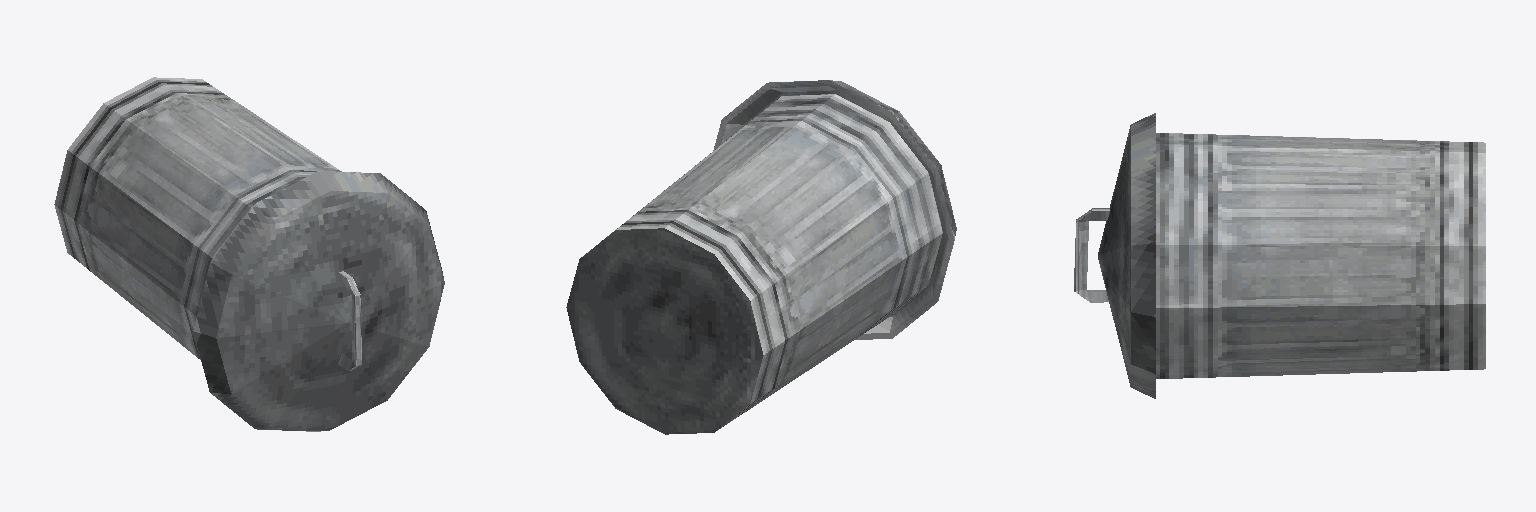
3 renders of one model, left to right at view 1: azimuth 30°, elevation 25°; view 2: azimuth 150°, elevation 25°; view 3: azimuth 270°, elevation 25°, orthographic.
Visible parts, largest first — view 1: Trashcan_Cover_di?.002, Trashcan_di; view 2: Trashcan_di, Trashcan_Cover_di?.002; view 3: Trashcan_di, Trashcan_Cover_di?.002.
Part boxes in pixels (bbox=[...]): Trashcan_Cover_di?.002: bbox=[193, 171, 444, 431]; Trashcan_di: bbox=[54, 77, 341, 359]; Trashcan_di: bbox=[566, 94, 942, 434]; Trashcan_Cover_di?.002: bbox=[713, 80, 956, 339]; Trashcan_di: bbox=[1156, 133, 1485, 378]; Trashcan_Cover_di?.002: bbox=[1074, 113, 1155, 398].
Size of the model in its own units: 2.6 by 2.6 by 3.72.
Materials: 1 (1 with a texture image).